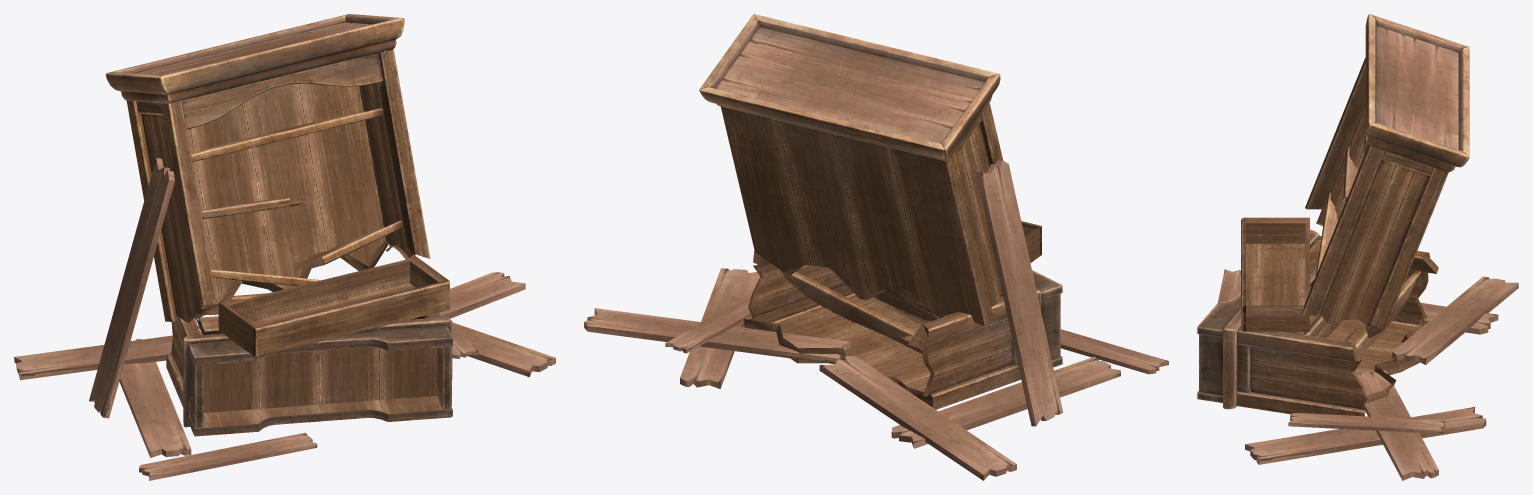
3 views of the same model, side by side, from view 1: azimuth 30°, elevation 25°; view 2: azimuth 150°, elevation 25°; view 3: azimuth 270°, elevation 25° (orthographic). The views are drawn at different scales.
Parts seen in each view (by area): view 1: SM_Bookshelves_Scholar_Peak_01_LOD0; view 2: SM_Bookshelves_Scholar_Peak_01_LOD0; view 3: SM_Bookshelves_Scholar_Peak_01_LOD0.
Part boxes in pixels (left/top/right/bottom): SM_Bookshelves_Scholar_Peak_01_LOD0: left=14, top=14, right=555, bottom=480; SM_Bookshelves_Scholar_Peak_01_LOD0: left=584, top=14, right=1168, bottom=480; SM_Bookshelves_Scholar_Peak_01_LOD0: left=1197, top=14, right=1518, bottom=480.
Size of the model in its own units: 2.89 by 1.92 by 1.84.
Materials: 1 (1 with a texture image).
